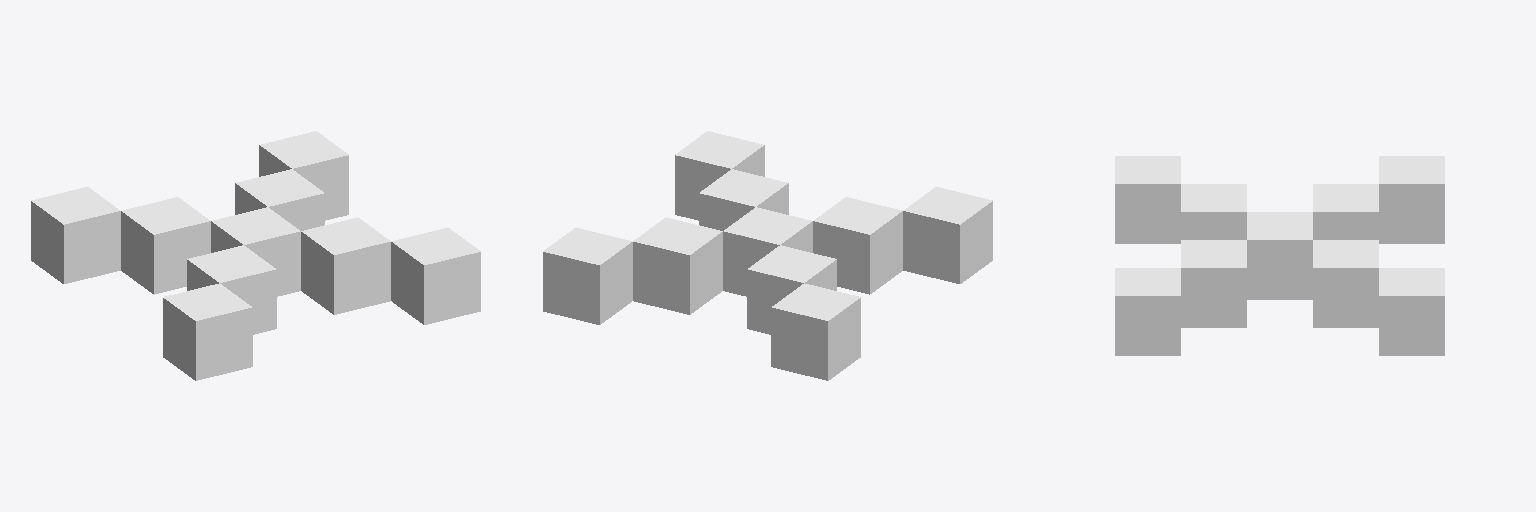
The model's file is helicopter_blades.obj.
3 renders of one model, left to right at view 1: azimuth 30°, elevation 25°; view 2: azimuth 150°, elevation 25°; view 3: azimuth 270°, elevation 25°, orthographic.
Parts seen in each view (by area): view 1: helicopter_blades; view 2: helicopter_blades; view 3: helicopter_blades.
Boxes of the visible parts, box(x1,y1,x2,y2) form: helicopter_blades: box(31, 131, 480, 380); helicopter_blades: box(543, 131, 992, 380); helicopter_blades: box(1115, 156, 1444, 355).
Size of the model in its own units: 5 by 1 by 5.